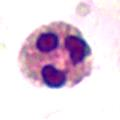neutrophil: (17, 17, 96, 90)
